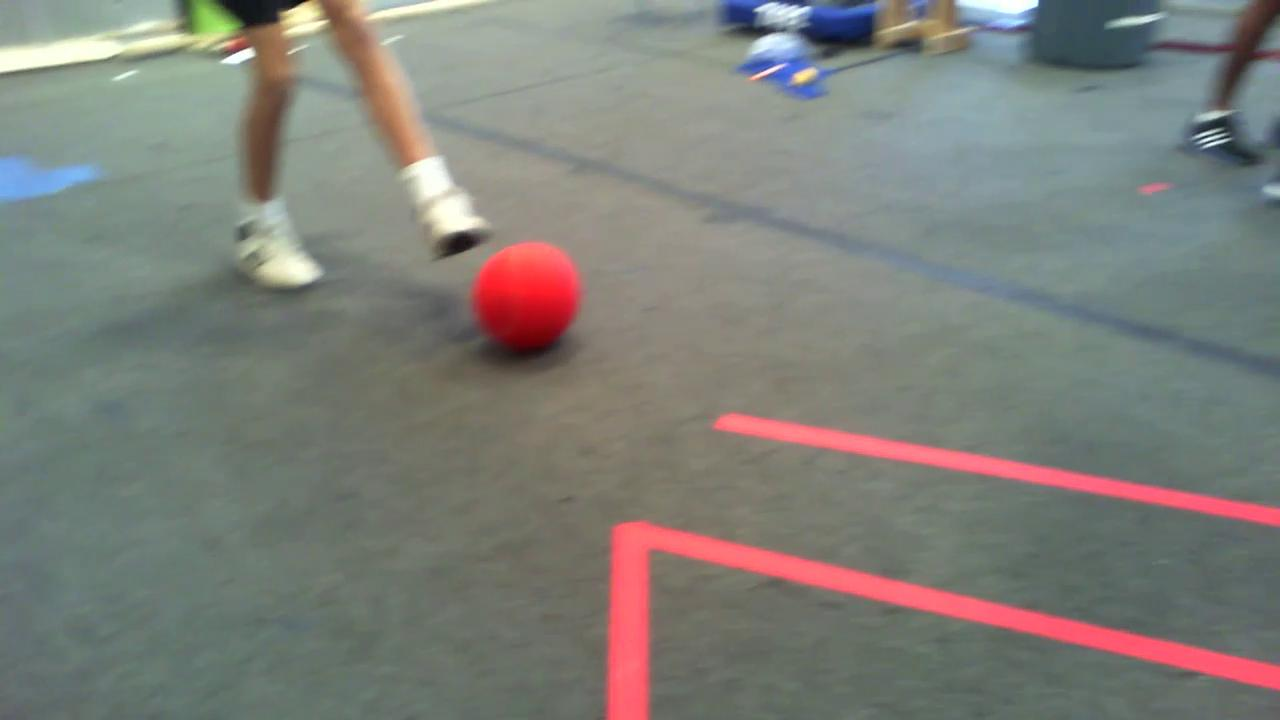Red_Ball: (468, 238, 584, 350)
